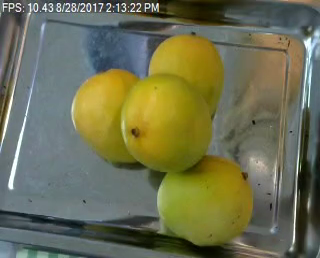Mango: (121, 74, 213, 174), (156, 156, 252, 244), (72, 67, 146, 163), (147, 32, 223, 112)
